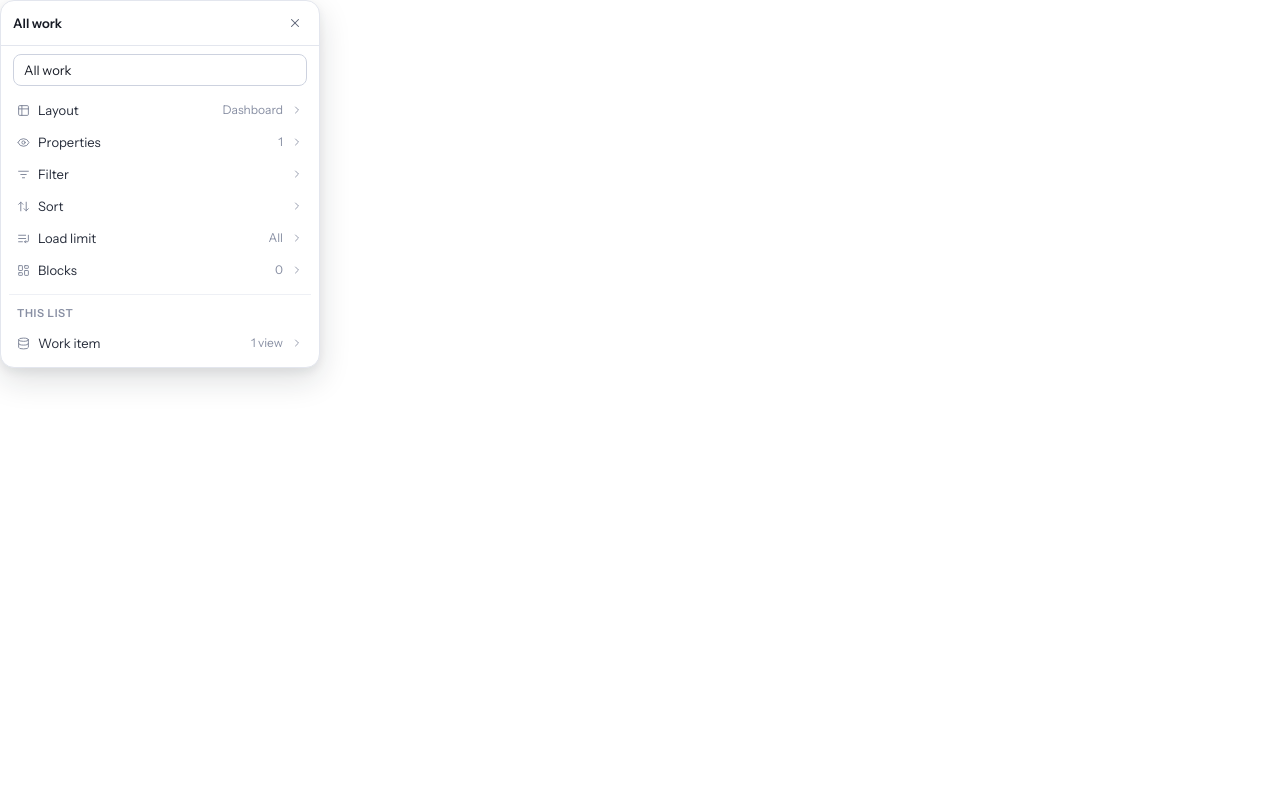
Scenario: blocks page (M44.4) › reads zero widgets off an absent dashboard rather than throwing
What coordinates should you click on to do the following:
click the button with test id "view-settings-blocks"
I would click on:
 (57, 270)
Its box is [9,254,311,286].
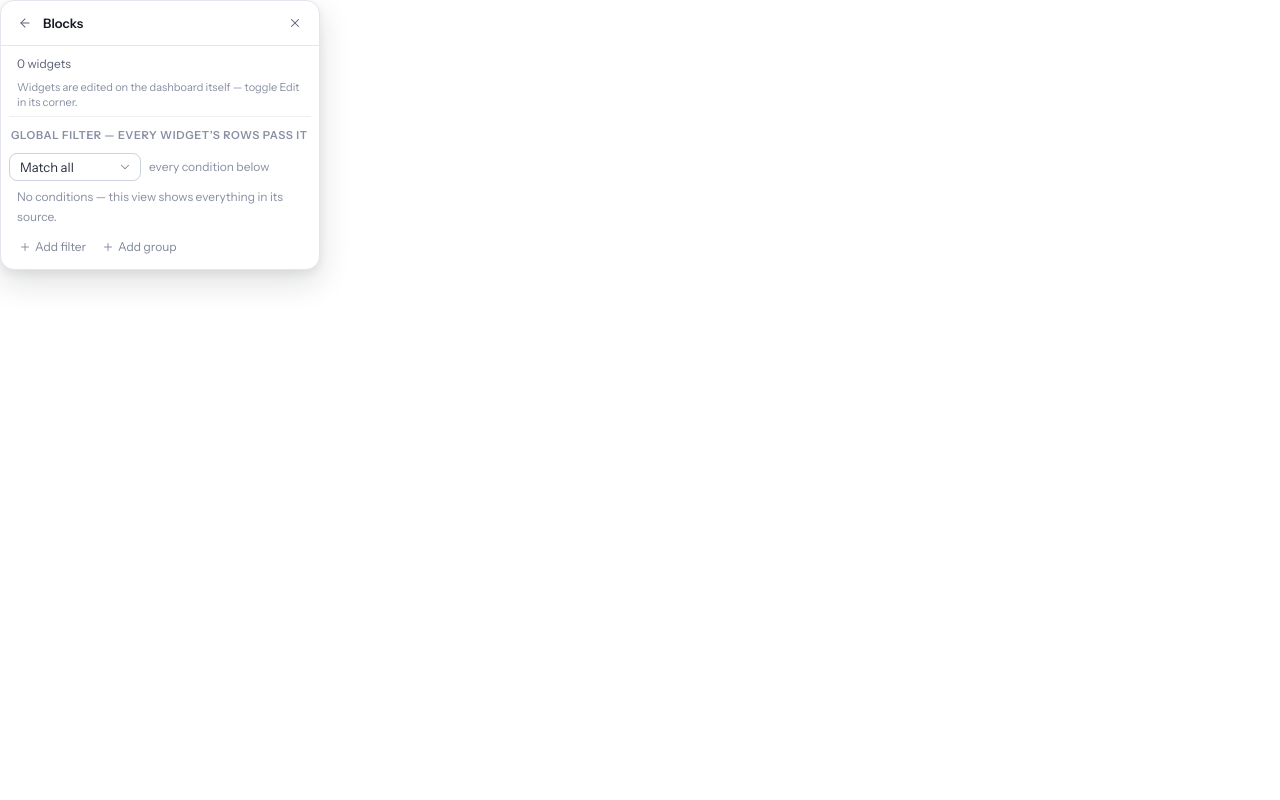
Expected: the text "0 widgets" is shown, [17,56,71,71]
